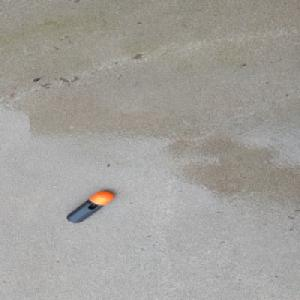PlasticPart: (66, 190, 113, 223)
